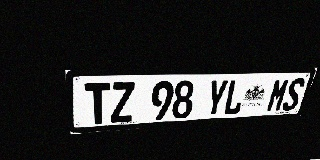8: (171, 80, 196, 119)
9: (150, 81, 175, 120)
L: (222, 79, 247, 115)
M: (265, 78, 291, 112)
S: (281, 78, 306, 111)
T: (84, 82, 110, 125)
Y: (204, 80, 229, 117)
Z: (111, 82, 135, 123)
